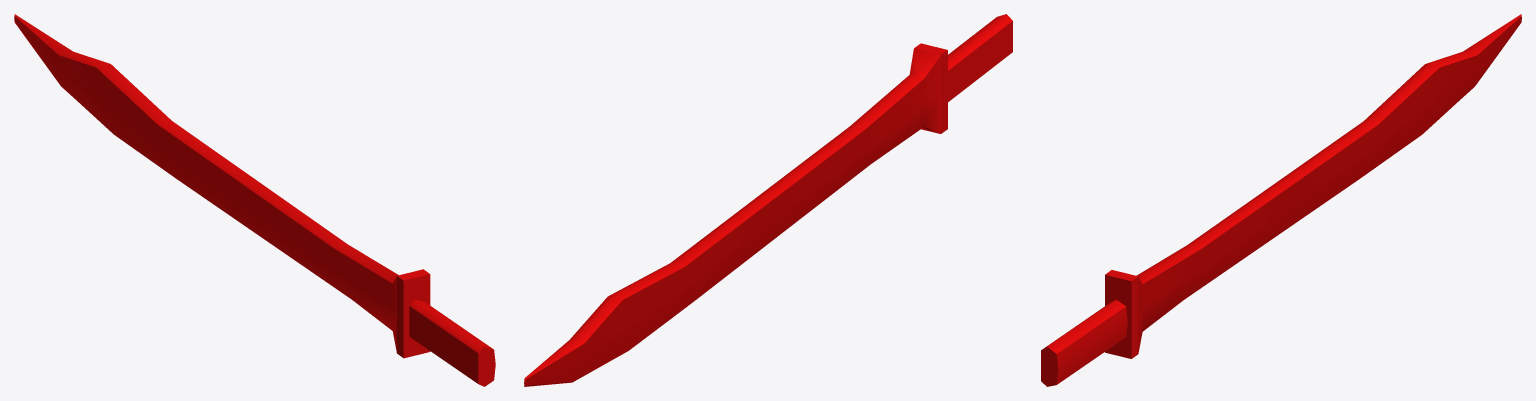
File: sword.fbx
3 renders of one model, left to right at view 1: azimuth 30°, elevation 25°; view 2: azimuth 150°, elevation 25°; view 3: azimuth 330°, elevation 25°, orthographic.
Parts seen in each view (by area): view 1: pCube1; view 2: pCube1; view 3: pCube1.
Part boxes in pixels (box(x1,y1,x2,y2)): pCube1: box(14, 14, 495, 386); pCube1: box(524, 14, 1012, 386); pCube1: box(1041, 14, 1521, 386).
Bounding box in the file's own units: 0.3124 × 0.8836 × 9.6.
